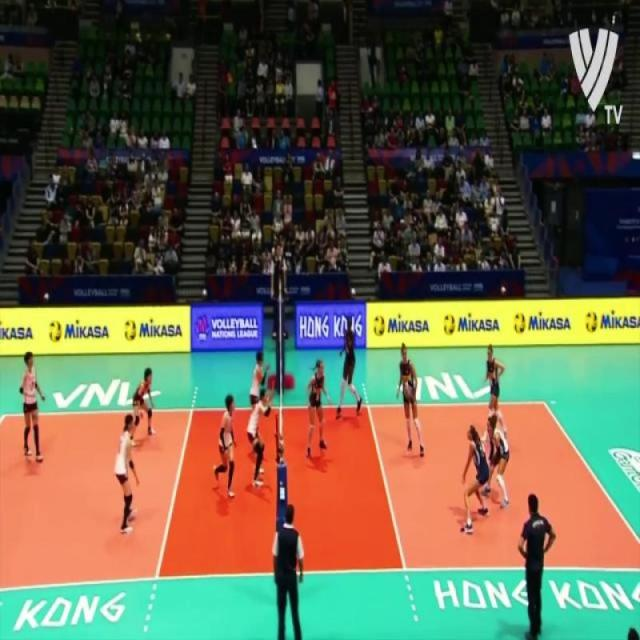volleyball: (512, 312, 527, 336), (124, 318, 137, 342), (373, 314, 386, 337), (444, 313, 455, 336), (50, 320, 61, 343), (586, 310, 596, 334), (403, 385, 415, 401)
